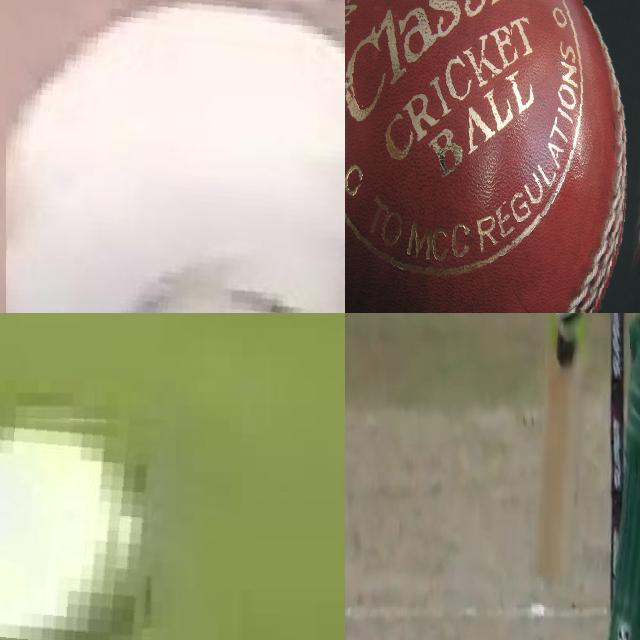Cricket ball: (5, 0, 345, 313), (345, 0, 640, 313), (0, 406, 161, 640)
